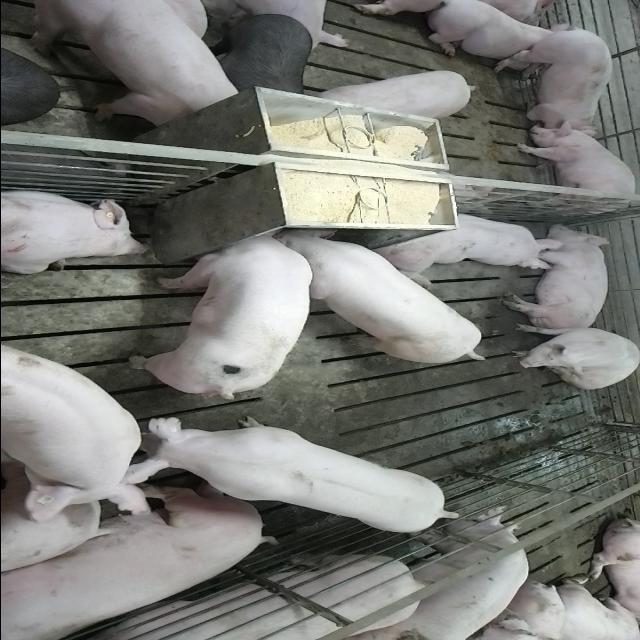Feeding: (124, 222, 314, 394), (276, 229, 490, 366)
Lateral_lying: (0, 478, 274, 636), (500, 223, 614, 333)
Sitting: (499, 324, 637, 389)
Standing: (119, 414, 462, 535), (29, 552, 433, 640), (28, 1, 246, 126), (0, 345, 148, 525), (365, 513, 533, 640), (492, 26, 614, 132), (508, 120, 638, 210), (202, 12, 314, 94), (312, 66, 478, 120)
Sternal_lying: (376, 209, 564, 281), (0, 187, 151, 275), (423, 1, 564, 61)
